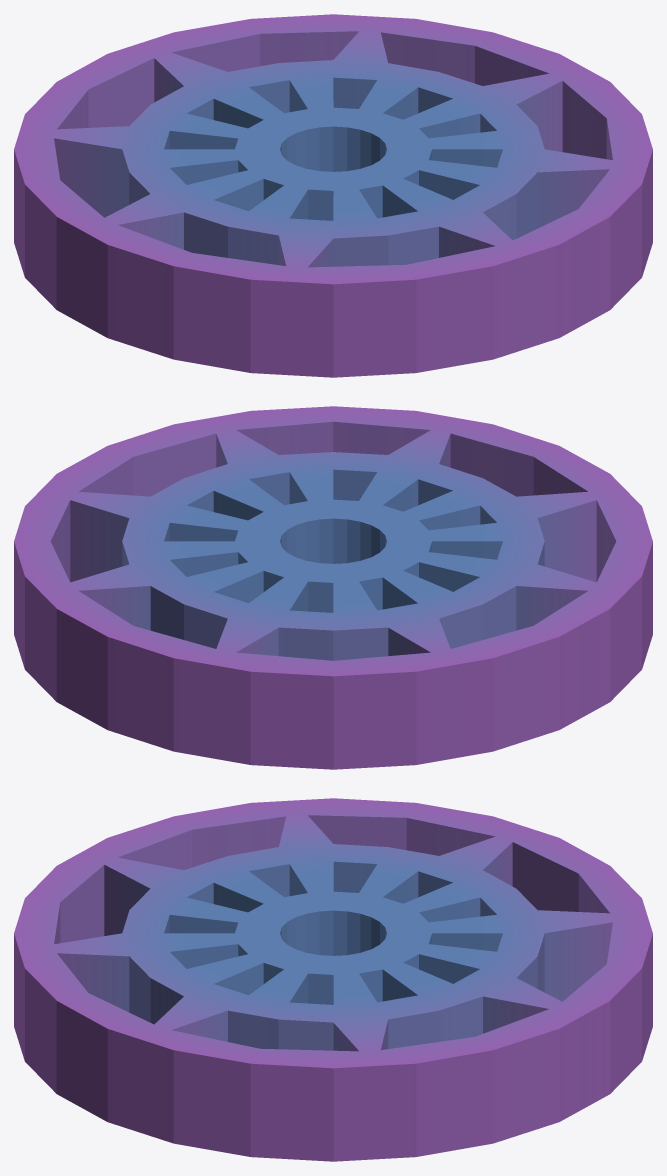
The model's file is gear6.fbx.
The picture shows the model from 3 angles, top to bottom: view 1: azimuth 30°, elevation 25°; view 2: azimuth 150°, elevation 25°; view 3: azimuth 270°, elevation 25°; orthographic projection.
Parts seen in each view (by area): view 1: gear6; view 2: gear6; view 3: gear6.
Boxes of the visible parts, x1,y1,x2,y2 form: gear6: (14,14,652,377); gear6: (14,406,652,769); gear6: (14,798,652,1161).
Bounding box in the file's own units: 290 × 46.82 × 290.
1 material, 1 textured.
